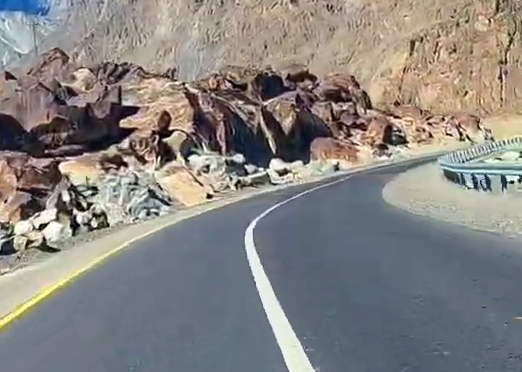stright: (200, 151, 427, 338)
